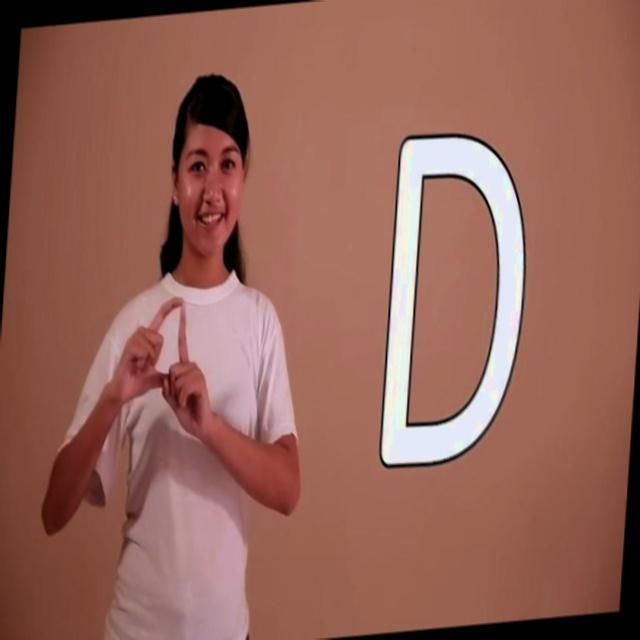D: (124, 292, 215, 399)
